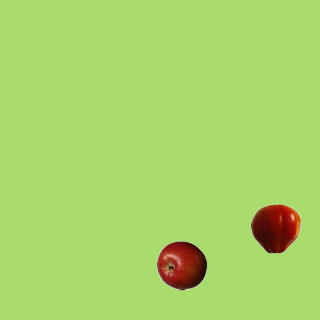Apple Braeburn: (156, 240, 206, 290)
Tomato 1: (250, 203, 300, 253)
